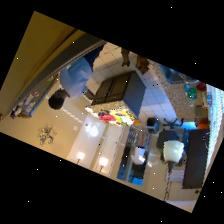person: (48, 43, 104, 108), (130, 127, 145, 169)
